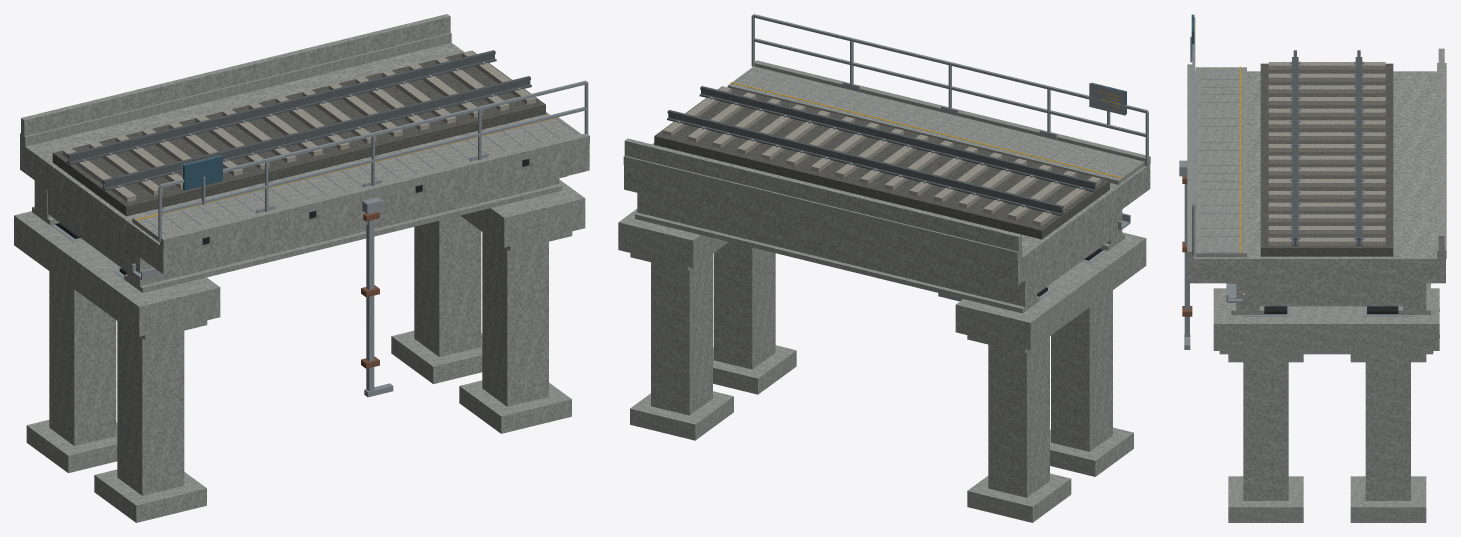
File: PZ_Rail_Viaduct_10m_Assembled_Example.glb
The picture shows the model from 3 angles, left to right: view 1: azimuth 30°, elevation 25°; view 2: azimuth 150°, elevation 25°; view 3: azimuth 270°, elevation 25°; orthographic projection. The views are drawn at different scales.
Visible parts, largest first — view 1: DECK__STR_DeckSlab, DECK__TRACK_BallastBedding, PIER_A__PIER_Column_R, PIER_B__PIER_Column_R, PIER_A__PIER_Column_L, PIER_A__PIER_LoadTransferCap, DECK__WALK_ServiceSlab, PIER_B__PIER_Column_L, DECK__SAFETY_FarSideParapet, DECK__STR_RightWalkCurb, DECK__STR_LeftEdgeCurbstone, PIER_B__PIER_LoadTransferCap (+18 smaller); view 2: DECK__TRACK_BallastBedding, DECK__STR_DeckSlab, DECK__WALK_ServiceSlab, PIER_A__PIER_Column_L, PIER_B__PIER_Column_L, PIER_A__PIER_Column_R, DECK__STR_PrimaryGirder_Far, PIER_A__PIER_LoadTransferCap, DECK__SAFETY_FarSideParapet, PIER_B__PIER_Column_R, DECK__STR_LeftEdgeCurbstone, PIER_B__PIER_LoadTransferCap (+17 smaller); view 3: DECK__STR_DeckSlab, DECK__TRACK_BallastBedding, DECK__WALK_ServiceSlab, PIER_B__PIER_LoadTransferCap, PIER_B__PIER_Column_L, PIER_B__PIER_Column_R, DECK__STR_CrossDiaphragm_01, PIER_B__PIER_Foot_L, PIER_B__PIER_Foot_R, DECK__SAFETY_FarSideParapet, DECK__STR_RightWalkCurb, DECK__TRACK_RailBase_L (+26 smaller).
Boxes of the visible parts, x1,y1,x2,y2 form: DECK__STR_DeckSlab: (20, 42, 589, 274); DECK__TRACK_BallastBedding: (52, 50, 545, 216); PIER_A__PIER_Column_R: (117, 321, 184, 495); PIER_B__PIER_Column_R: (482, 232, 548, 406); PIER_A__PIER_Column_L: (49, 271, 116, 445); PIER_A__PIER_LoadTransferCap: (14, 211, 220, 336); DECK__WALK_ServiceSlab: (132, 117, 581, 242); PIER_B__PIER_Column_L: (414, 215, 481, 356); DECK__SAFETY_FarSideParapet: (21, 14, 450, 137); DECK__STR_RightWalkCurb: (160, 133, 589, 247); DECK__STR_LeftEdgeCurbstone: (20, 32, 451, 146); PIER_B__PIER_LoadTransferCap: (460, 179, 585, 247); DECK__TRACK_BallastBedding: (654, 86, 1109, 239); DECK__STR_DeckSlab: (624, 143, 1150, 285); DECK__WALK_ServiceSlab: (727, 66, 1144, 184); PIER_A__PIER_Column_L: (988, 336, 1049, 497); PIER_B__PIER_Column_L: (651, 254, 712, 415); PIER_A__PIER_Column_R: (1051, 290, 1112, 451); DECK__STR_PrimaryGirder_Far: (637, 193, 1036, 308); PIER_A__PIER_LoadTransferCap: (955, 232, 1146, 350); DECK__SAFETY_FarSideParapet: (624, 138, 1021, 253); PIER_B__PIER_Column_R: (713, 242, 775, 369); DECK__STR_LeftEdgeCurbstone: (623, 155, 1022, 260); PIER_B__PIER_LoadTransferCap: (618, 209, 728, 267); DECK__STR_DeckSlab: (1187, 71, 1445, 283); DECK__TRACK_BallastBedding: (1260, 63, 1393, 256); DECK__WALK_ServiceSlab: (1195, 67, 1246, 257); PIER_B__PIER_LoadTransferCap: (1213, 288, 1439, 350); PIER_B__PIER_Column_L: (1365, 354, 1410, 500); PIER_B__PIER_Column_R: (1243, 354, 1288, 500); DECK__STR_CrossDiaphragm_01: (1259, 283, 1402, 306); PIER_B__PIER_Foot_L: (1350, 476, 1426, 522); PIER_B__PIER_Foot_R: (1228, 476, 1303, 522); DECK__SAFETY_FarSideParapet: (1438, 48, 1444, 252); DECK__STR_RightWalkCurb: (1187, 64, 1193, 258); DECK__TRACK_RailBase_L: (1355, 57, 1362, 245).
Bounding box in the file's own units: 10.46 × 8.19 × 6.02.
9 materials, 9 textured.
